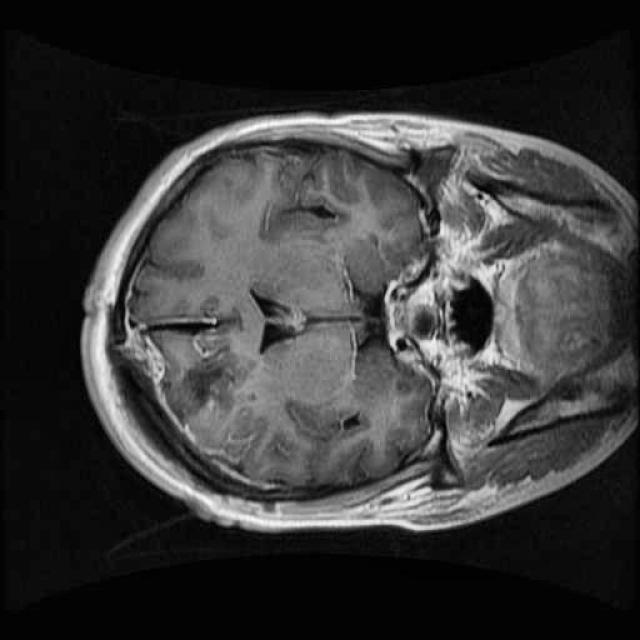Non-Tumor: (148, 321, 261, 451)
